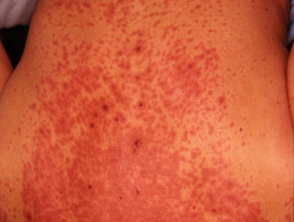SJS-TEN: (13, 0, 270, 222)
